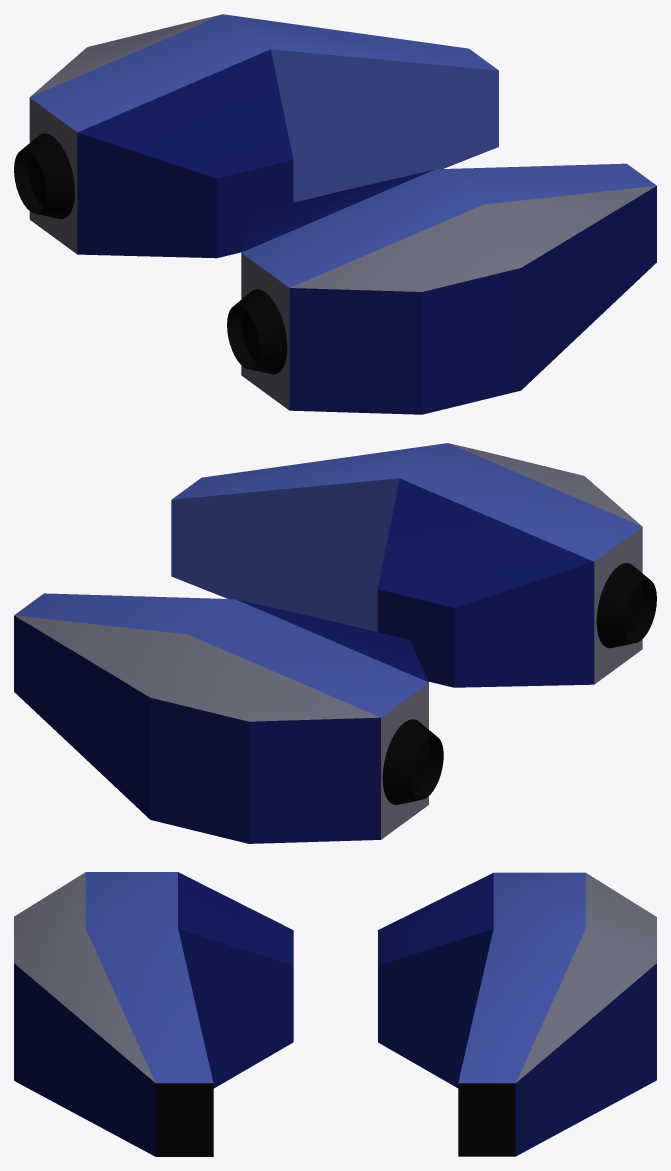
Rendered from Ship_01_Wing_02.fbx.
3 views of the same model, one above another, from view 1: azimuth 30°, elevation 25°; view 2: azimuth 150°, elevation 25°; view 3: azimuth 270°, elevation 25° (orthographic). The views are drawn at different scales.
Visible parts, largest first — view 1: Ship_01_Wing_02; view 2: Ship_01_Wing_02; view 3: Ship_01_Wing_02.
Boxes of the visible parts, x1,y1,x2,y2 form: Ship_01_Wing_02: (14,14,656,414); Ship_01_Wing_02: (14,443,656,843); Ship_01_Wing_02: (14,872,656,1156).
Size of the model in its own units: 1118 by 473 by 1524.
